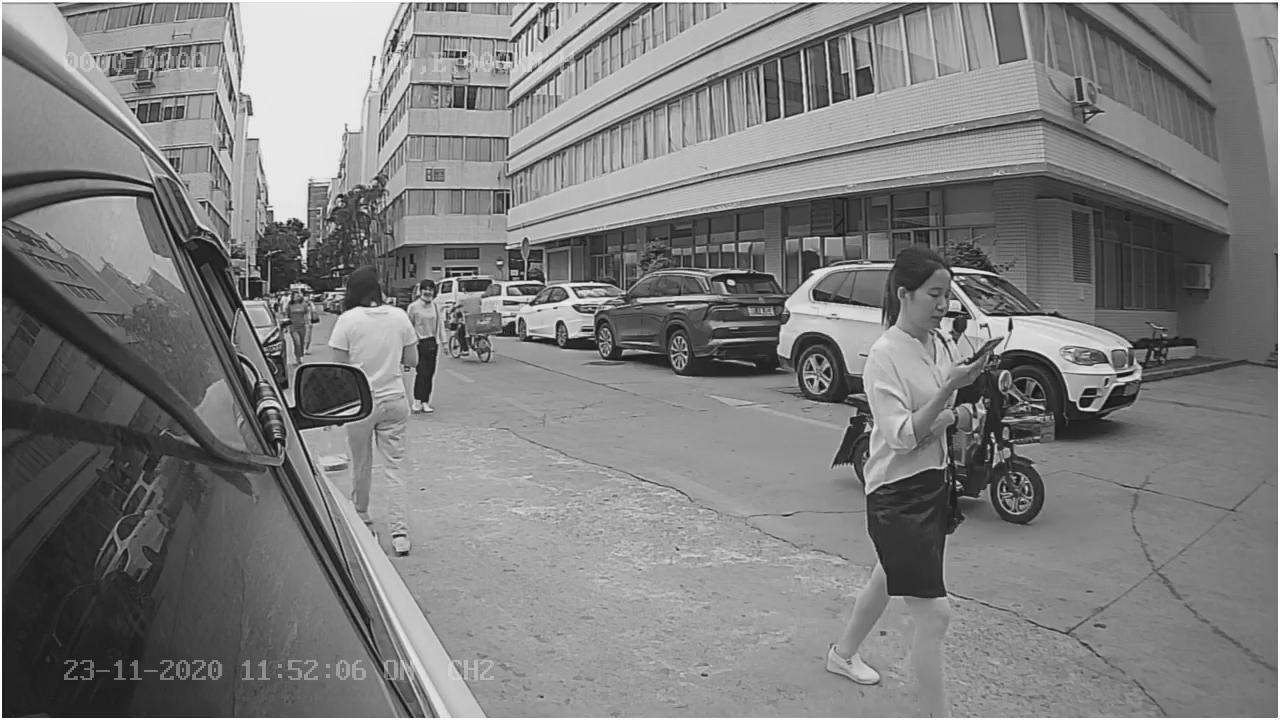person: (858, 246, 982, 459), (327, 266, 417, 363)
